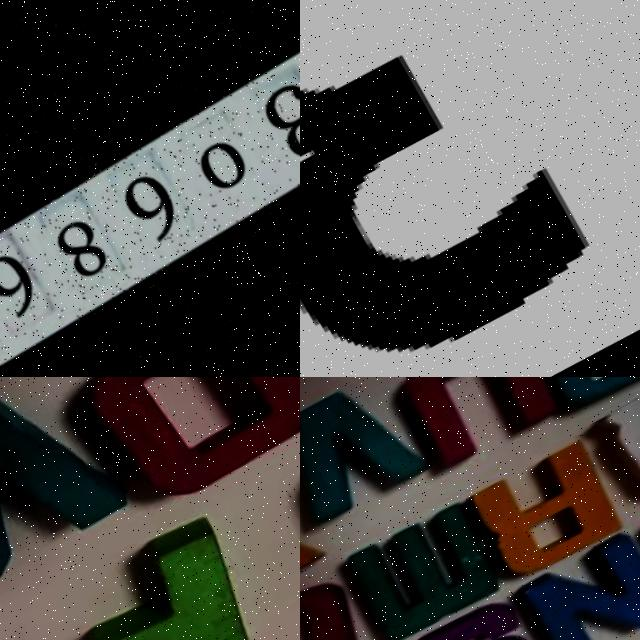0: (175, 94, 285, 217)
3: (300, 0, 640, 377), (240, 44, 300, 177)
6: (102, 137, 215, 262), (0, 219, 73, 341)
8: (38, 185, 141, 299)
F: (11, 491, 300, 640)
M: (334, 481, 514, 640)
N: (514, 509, 640, 640)
O: (65, 377, 300, 527), (300, 550, 388, 640)
Q: (585, 377, 640, 509)
R: (460, 419, 630, 586)
S: (387, 582, 553, 640)
U: (392, 377, 566, 469)
V: (0, 377, 142, 614), (300, 377, 429, 535)
X: (300, 457, 324, 622)
